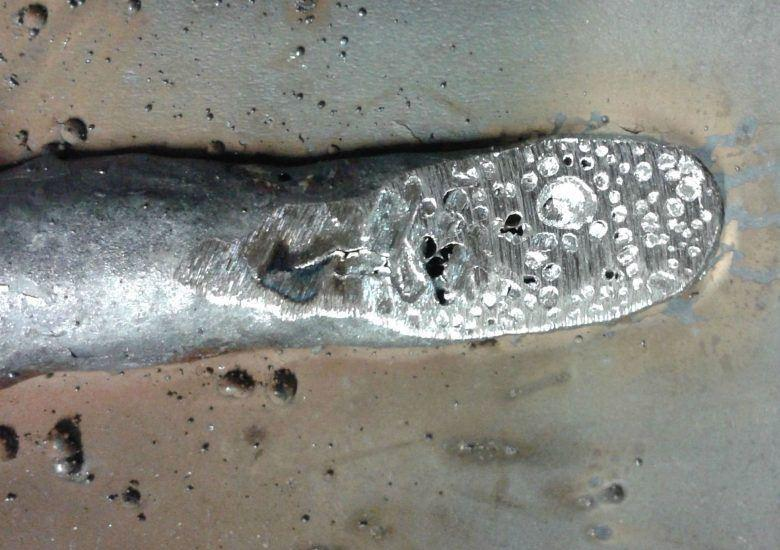crack: (256, 241, 389, 287)
porosity: (398, 223, 479, 320), (554, 136, 611, 179), (485, 207, 536, 252), (584, 254, 635, 292), (514, 262, 549, 297)
